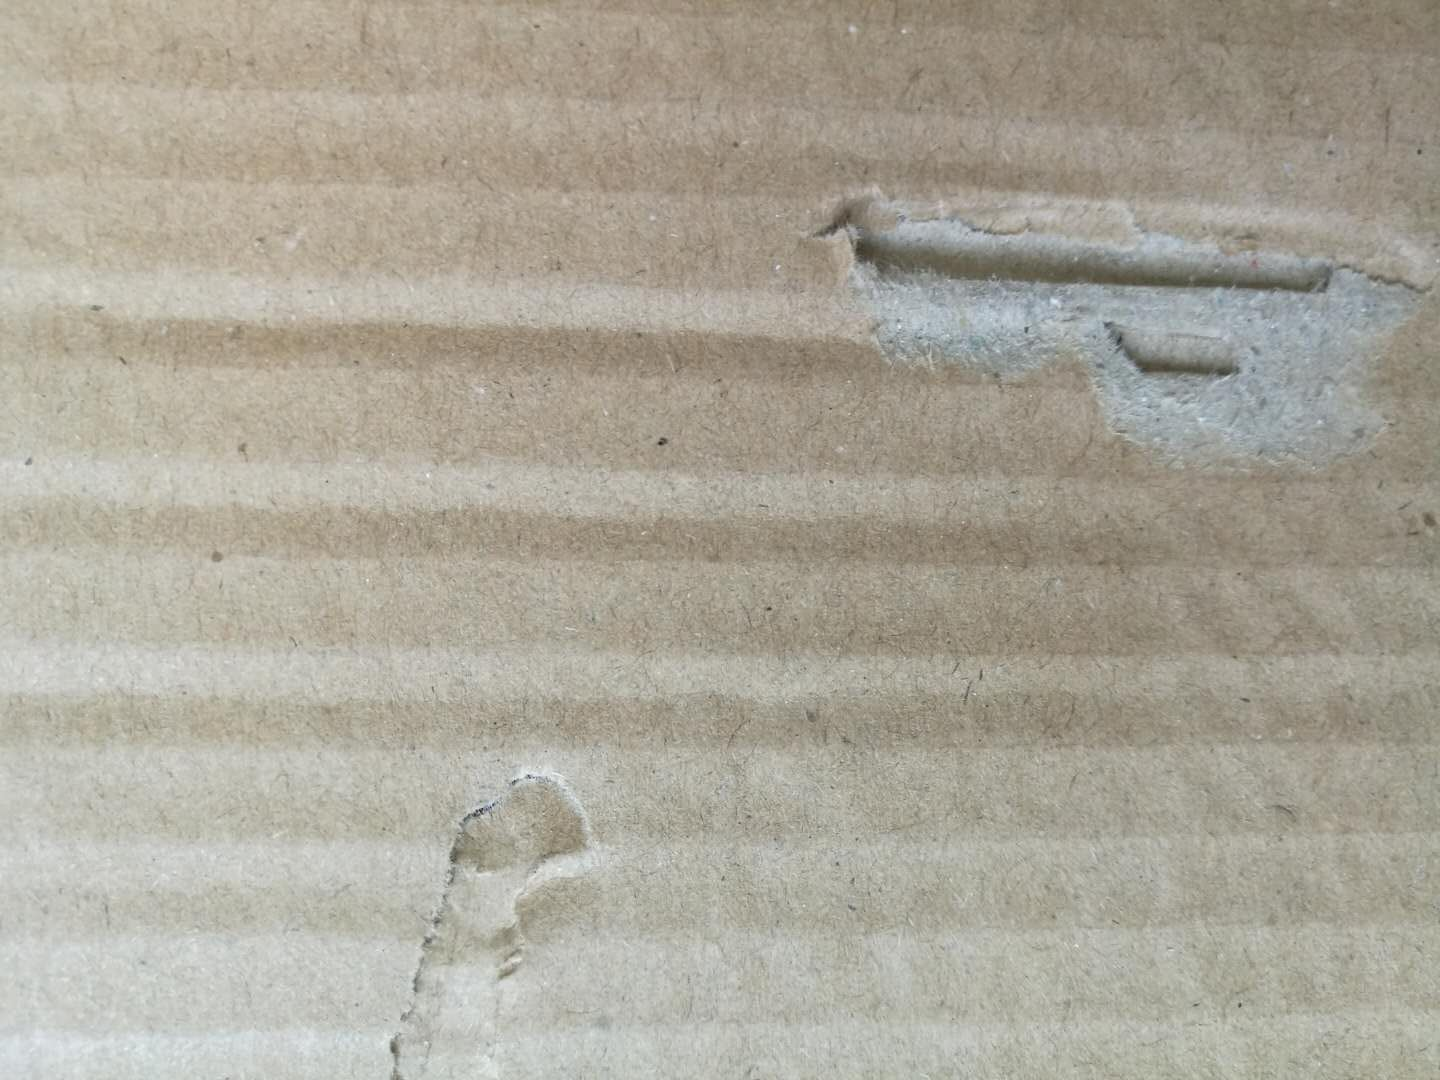defect: (766, 146, 1440, 511), (344, 741, 634, 1080)
